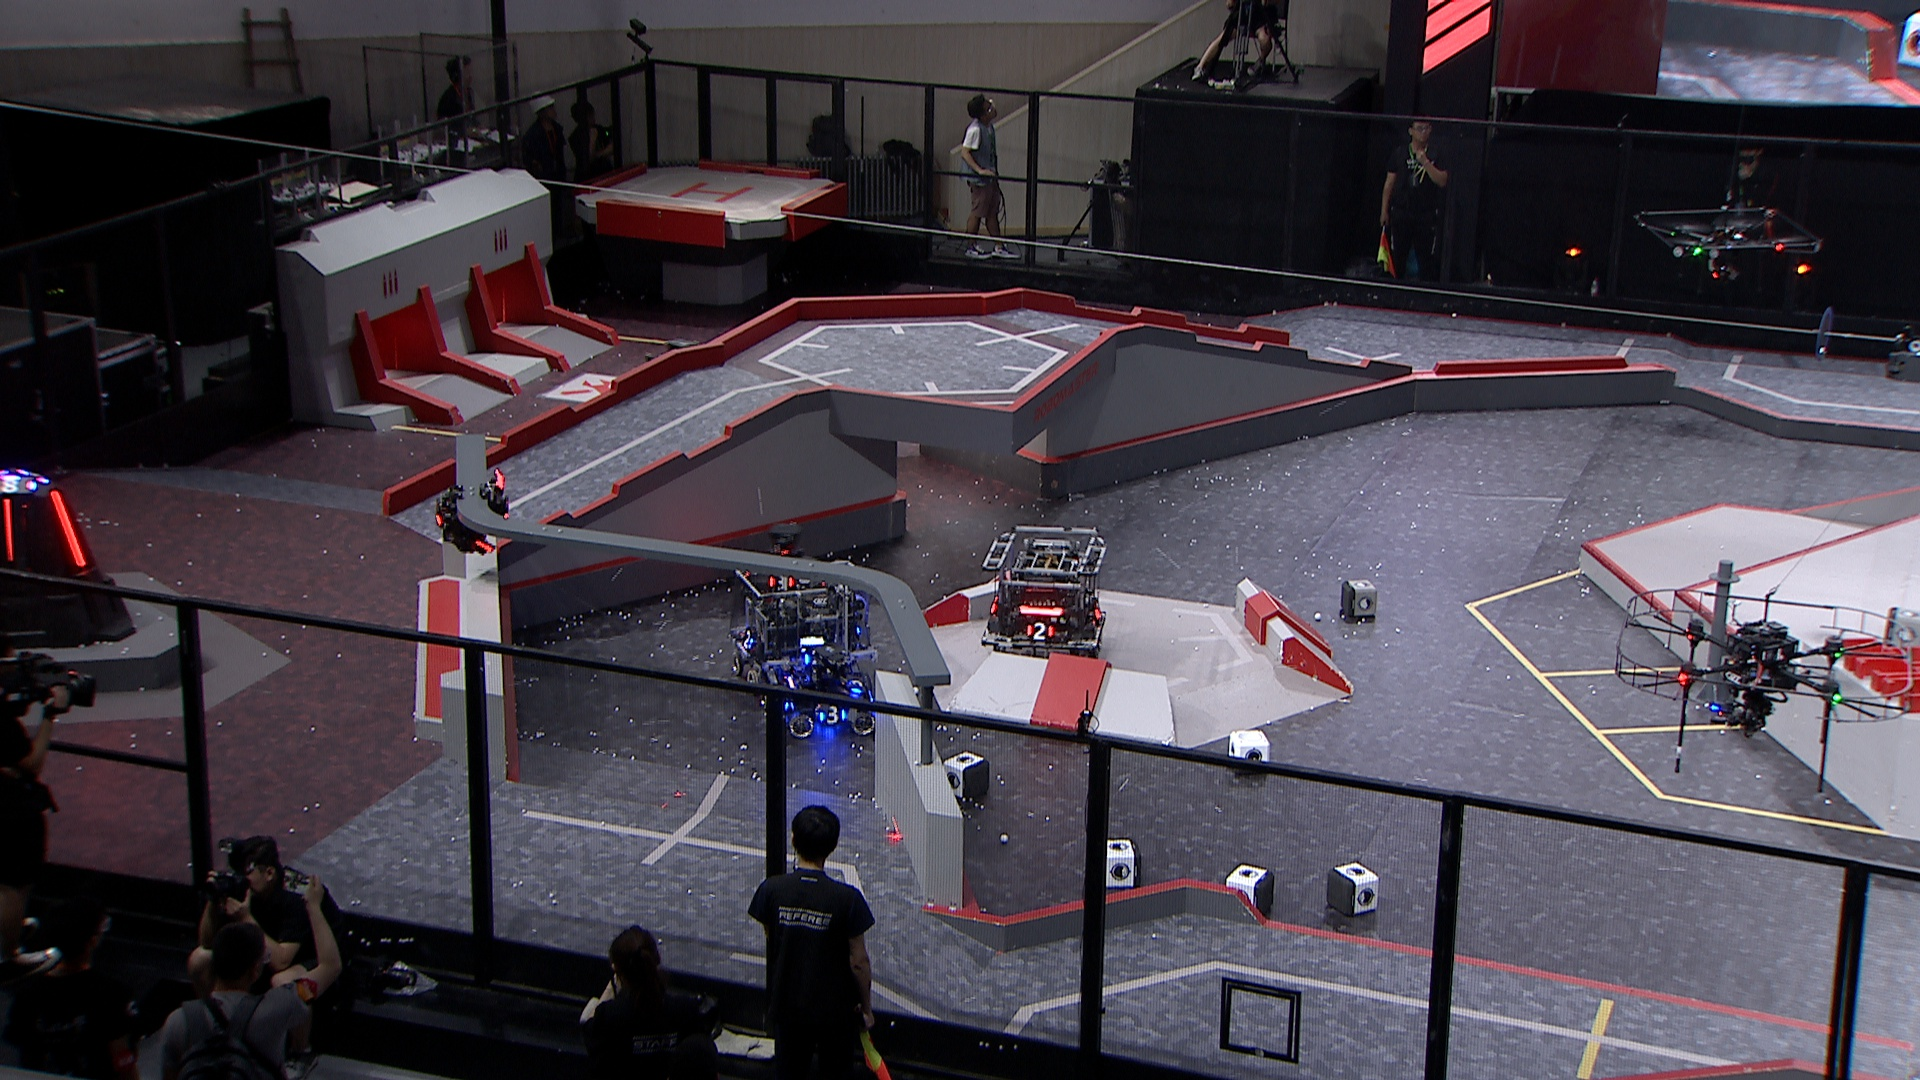armor: (47, 488, 88, 570), (1, 498, 16, 560), (816, 705, 847, 725), (1026, 621, 1055, 641), (770, 574, 796, 589), (738, 629, 756, 647), (847, 674, 864, 690), (1093, 600, 1102, 622)
car: (721, 564, 861, 695), (981, 520, 1106, 665), (764, 633, 880, 742), (629, 334, 733, 418), (742, 516, 839, 603)
watcher: (429, 465, 510, 560)
